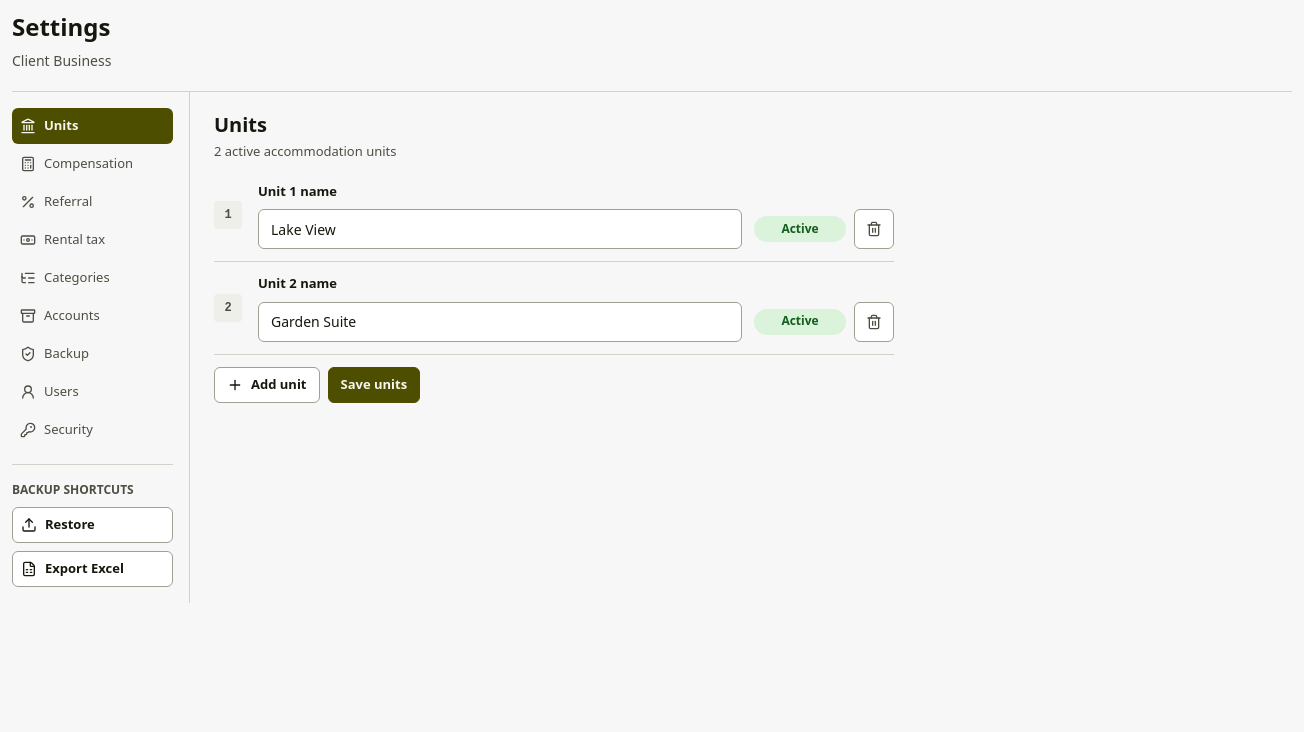
Test: settings › opens Backup from the Open Backup section for Restore shortcut without invoking Restore
Step 1. Click the button with aria-label "Open Backup section for Restore" → (92, 525), box [12,507,173,543]
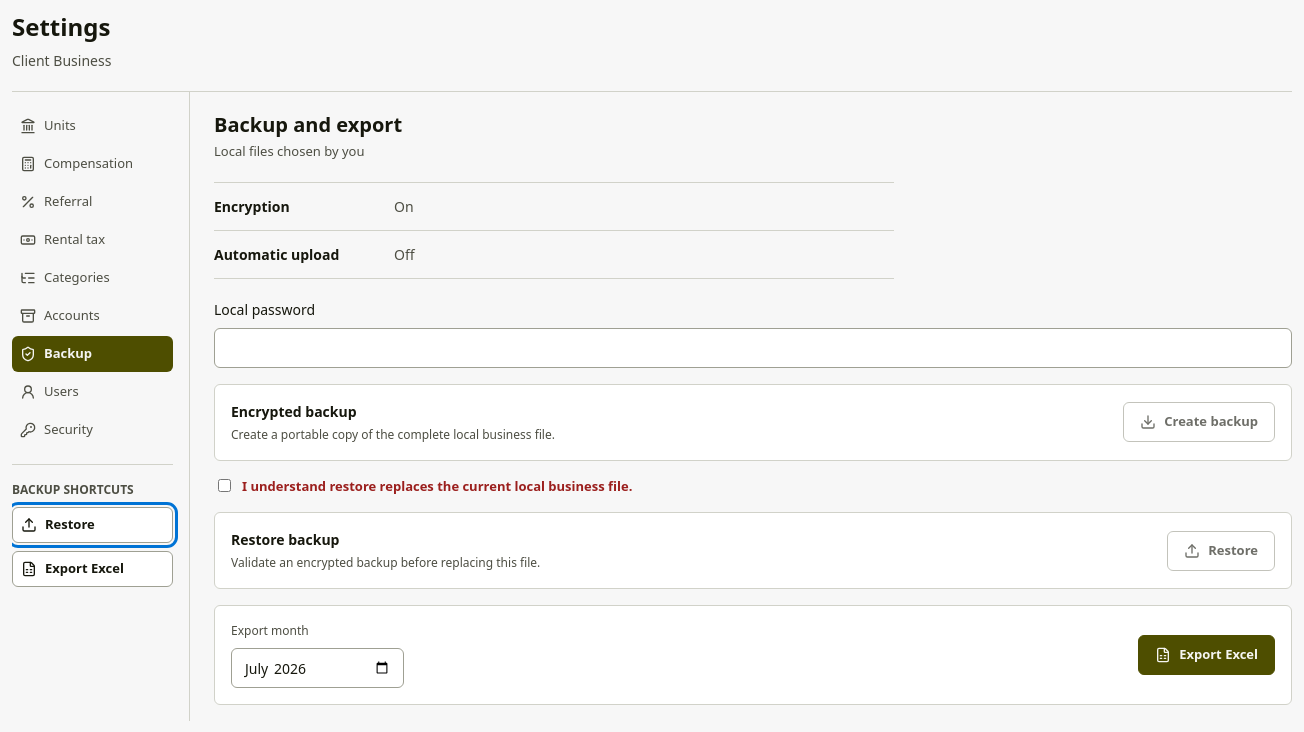
Check: the heading "Backup and export" is shown, box [214,111,402,138]
Check: the button "Restore" in the row of "Restore backup" is shown, box [1167,530,1275,570]
